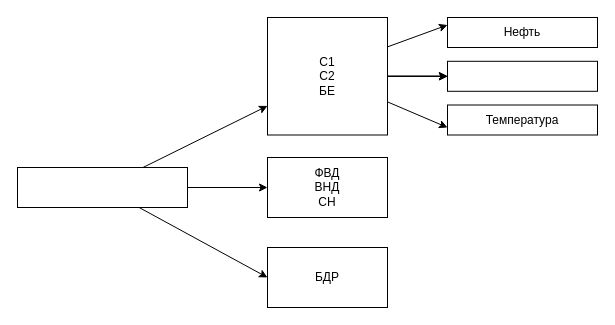
The diagram is 615 pixels wide and 325 high, and some of its shapes have lost their labels. The centre of each missing label's shape, as x and y in pixels:
"Вода" goes at [522,75].
"Комплект" goes at [102,187].
